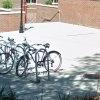Bicycle: (0, 33, 63, 81)
